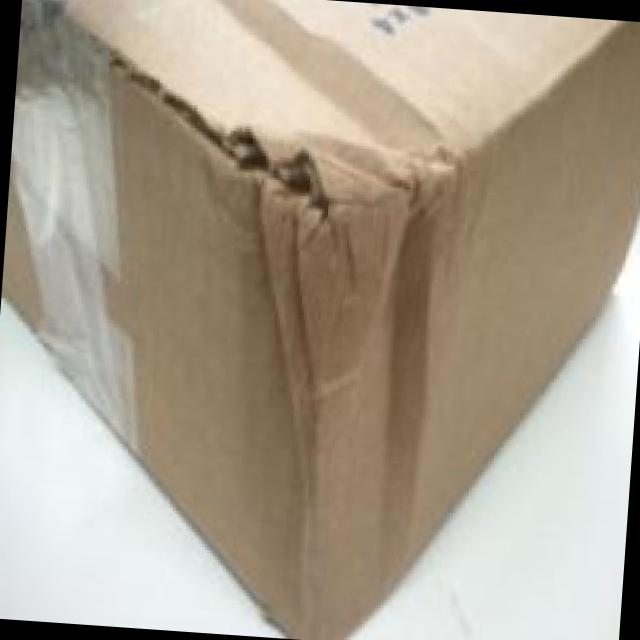crushed: (204, 135, 471, 476)
